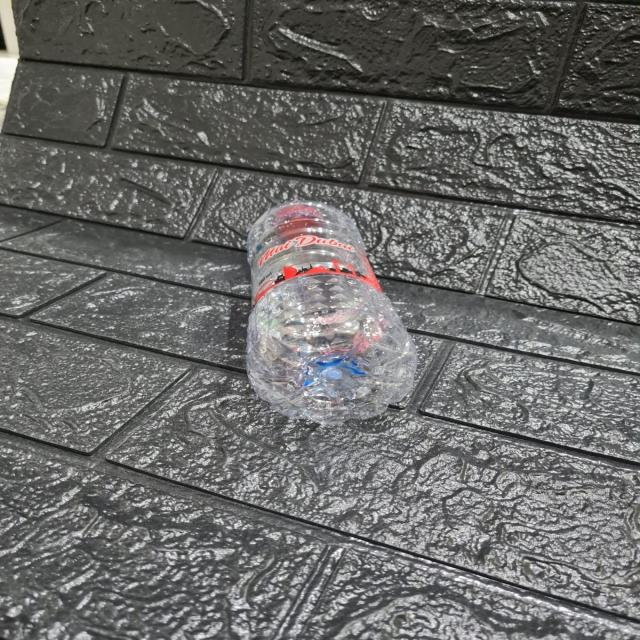bottle: (243, 195, 425, 424)
